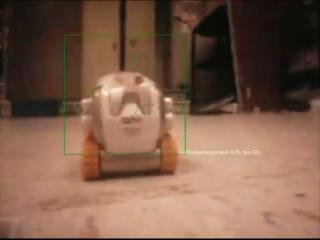cozmo: (78, 70, 178, 180)
